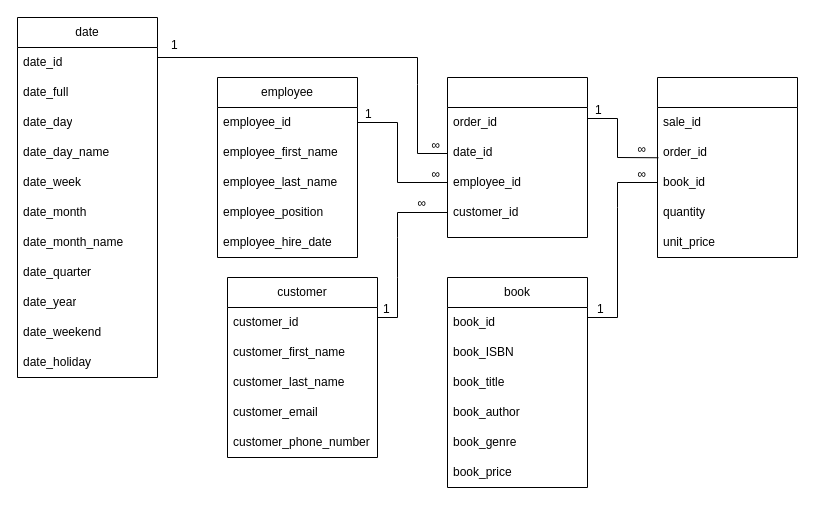
Some shapes in this 815 by 505 pixel diagram are drawn without their labels. Here are the shapes that lost their labels. From the top down, the box of each, then its label:
(446, 76, 588, 238): orders
(656, 76, 798, 258): sales
